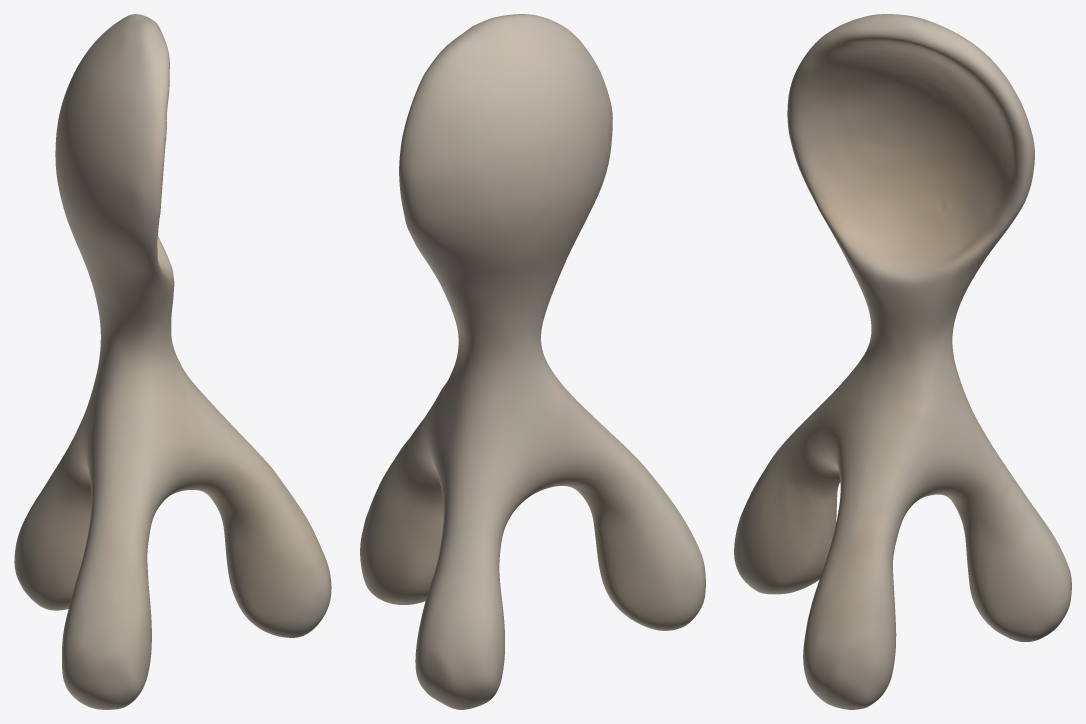
The model's file is krakefot.glb.
The picture shows the model from 3 angles, left to right: view 1: azimuth 30°, elevation 25°; view 2: azimuth 150°, elevation 25°; view 3: azimuth 270°, elevation 25°; orthographic projection. The views are drawn at different scales.
Parts seen in each view (by area): view 1: tripo_node_3e363105-76ab-444f-8635-6771ac4c0c8d; view 2: tripo_node_3e363105-76ab-444f-8635-6771ac4c0c8d; view 3: tripo_node_3e363105-76ab-444f-8635-6771ac4c0c8d.
Part boxes in pixels (x1,y1,x2,y2): tripo_node_3e363105-76ab-444f-8635-6771ac4c0c8d: (14, 14, 331, 709); tripo_node_3e363105-76ab-444f-8635-6771ac4c0c8d: (360, 14, 705, 709); tripo_node_3e363105-76ab-444f-8635-6771ac4c0c8d: (734, 14, 1071, 709).
Bounding box in the file's own units: 0.4849 × 0.9793 × 0.4743.
Materials: 1 (1 with a texture image).
